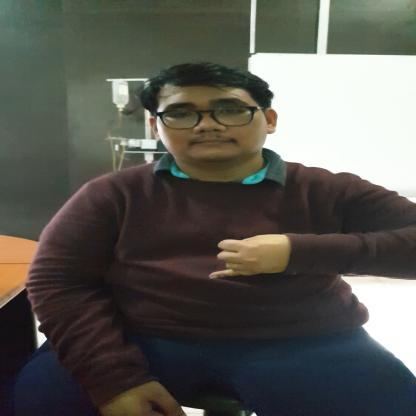J: (206, 233, 295, 280)
